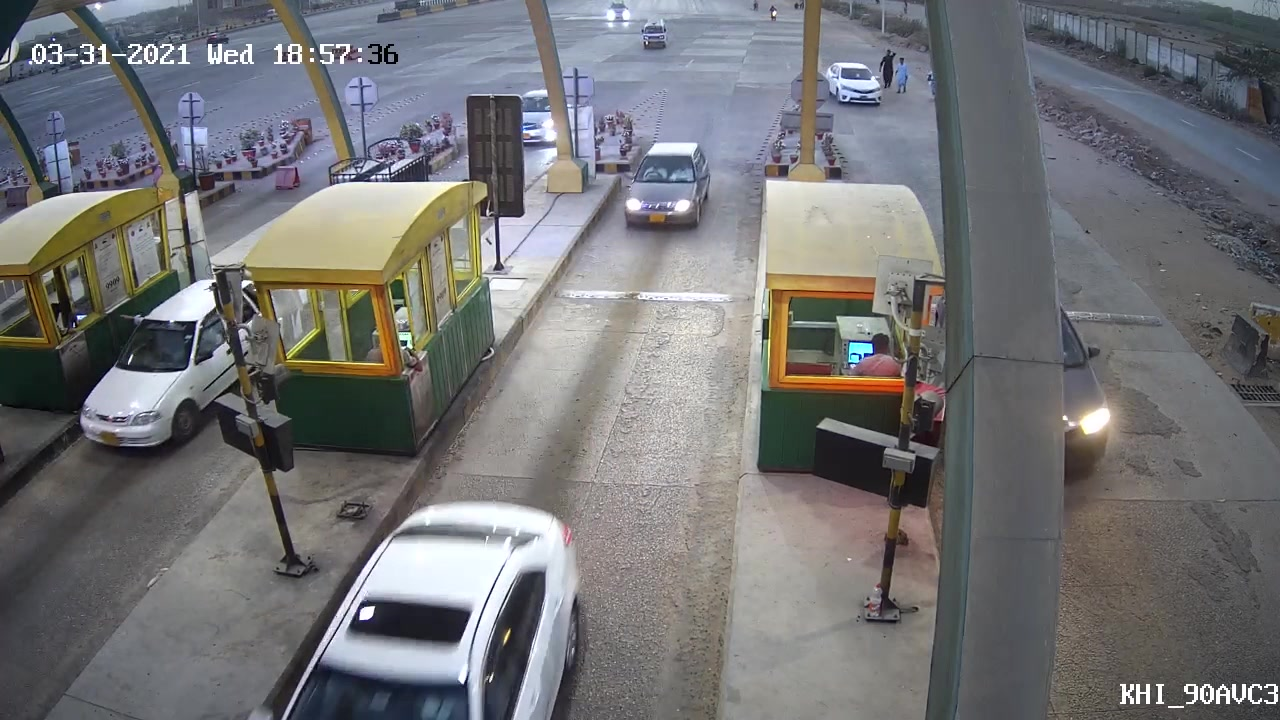F1: (615, 136, 713, 225)
